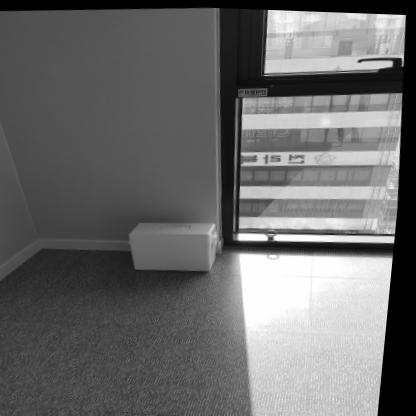DDL: (132, 216, 224, 273)
